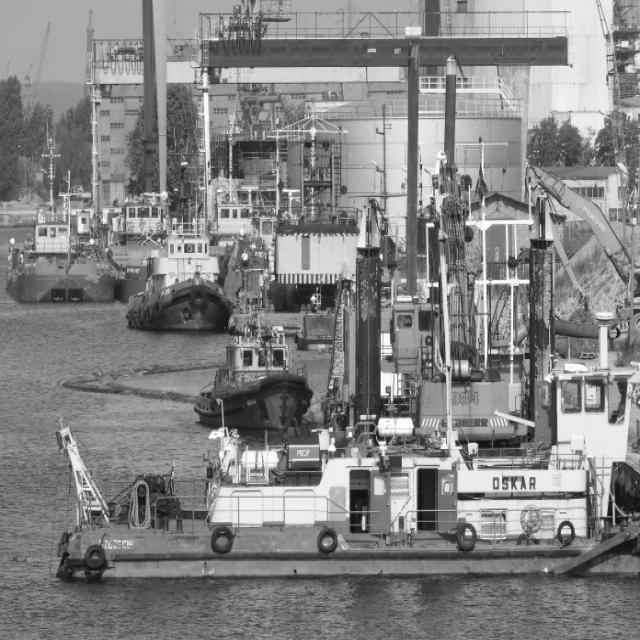tugboat: (45, 359, 640, 589), (5, 144, 118, 312), (193, 323, 315, 439), (125, 230, 237, 340), (111, 191, 198, 291)
